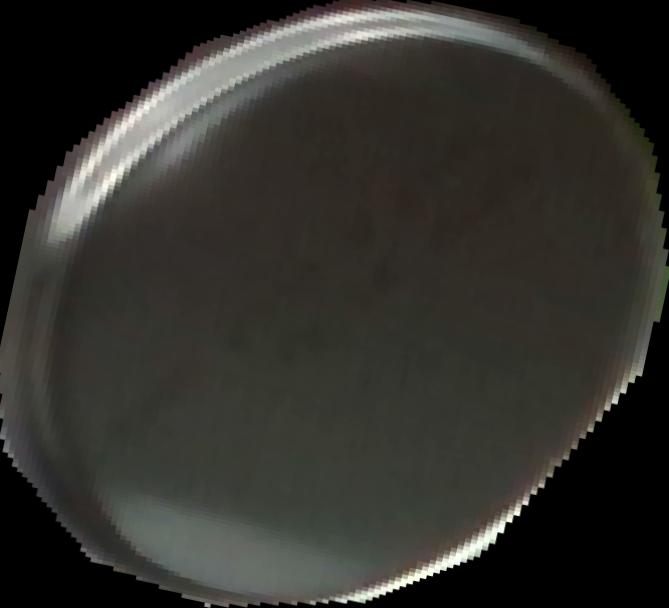bottom: (1, 0, 669, 608)
